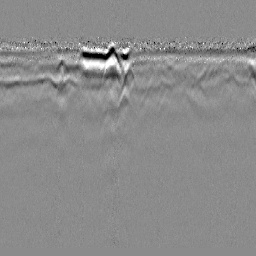cavity: (118, 62, 138, 103)
